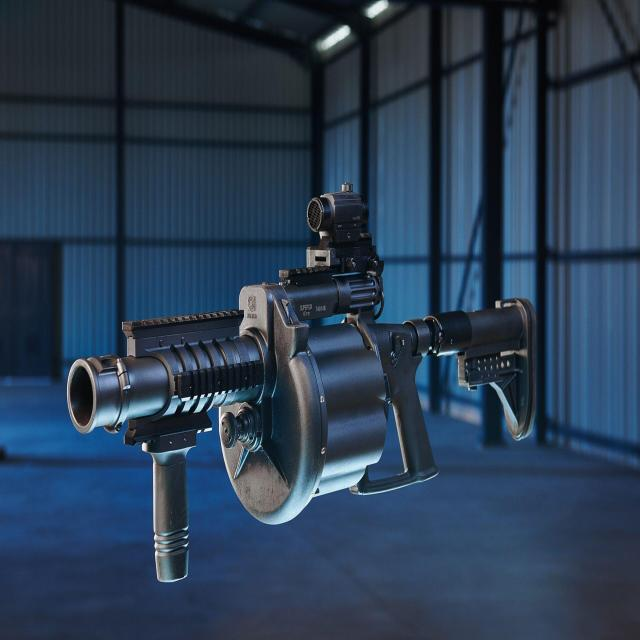weapon: (61, 189, 543, 586)
